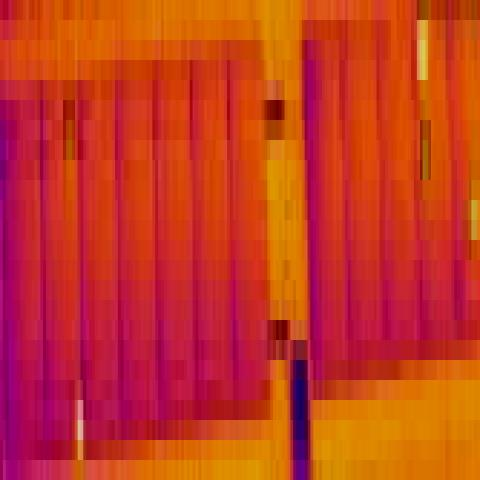fault: (63, 100, 75, 160), (417, 20, 428, 80), (420, 120, 431, 180), (469, 180, 477, 260), (78, 400, 83, 460)
